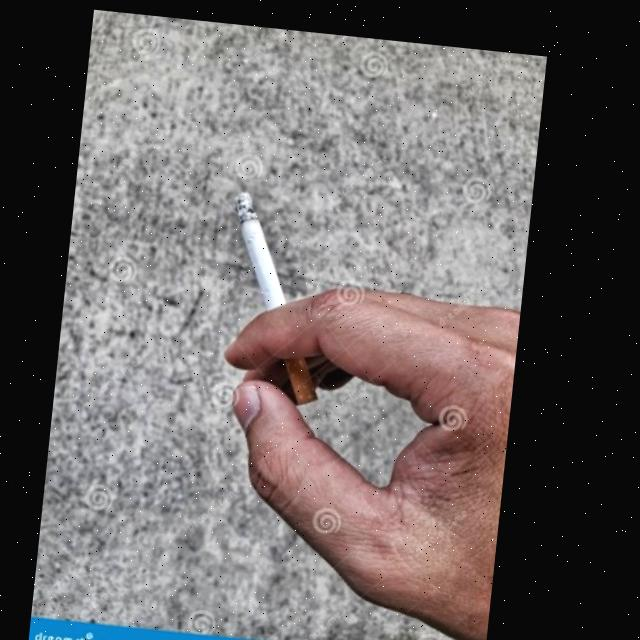cigarette: (221, 186, 343, 400)
